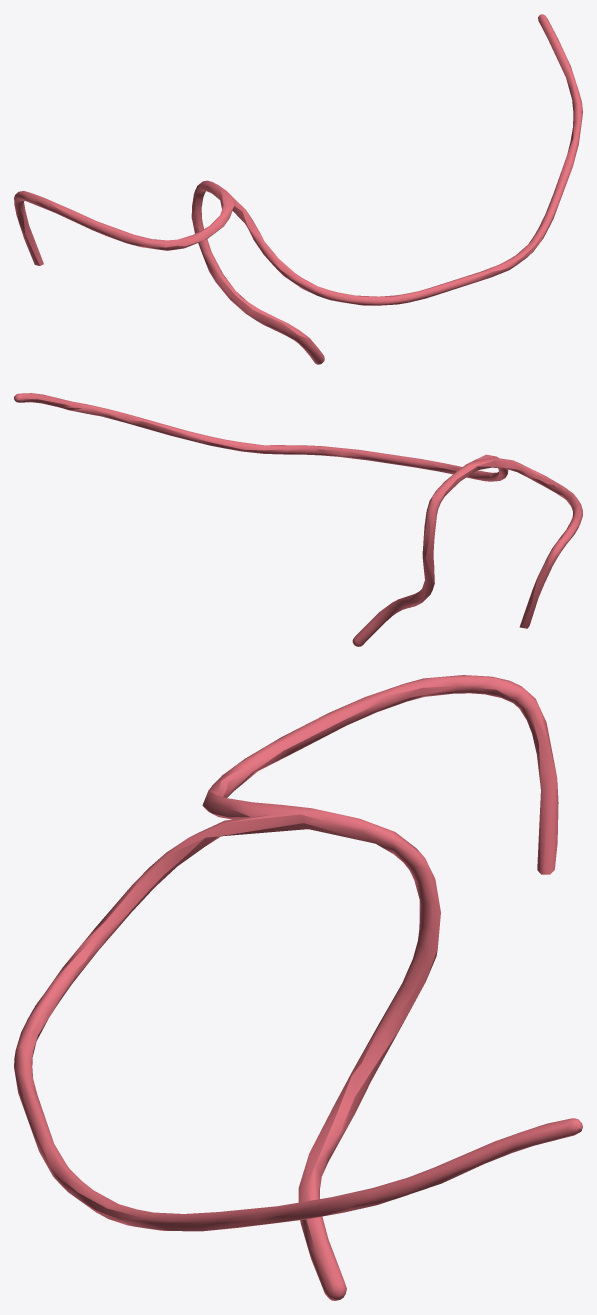
The model's file is fma15406_fj3543.glb.
The picture shows the model from 3 angles, top to bottom: view 1: azimuth 30°, elevation 25°; view 2: azimuth 150°, elevation 25°; view 3: azimuth 270°, elevation 25°; orthographic projection. The views are drawn at different scales.
Parts seen in each view (by area): view 1: FMA15406_FJ3543; view 2: FMA15406_FJ3543; view 3: FMA15406_FJ3543.
Part boxes in pixels (x1,y1,x2,y2): FMA15406_FJ3543: [14, 14, 582, 364]; FMA15406_FJ3543: [14, 393, 582, 646]; FMA15406_FJ3543: [14, 675, 582, 1300].
Size of the model in its own units: 0.1272 by 0.0522 by 0.0603.
